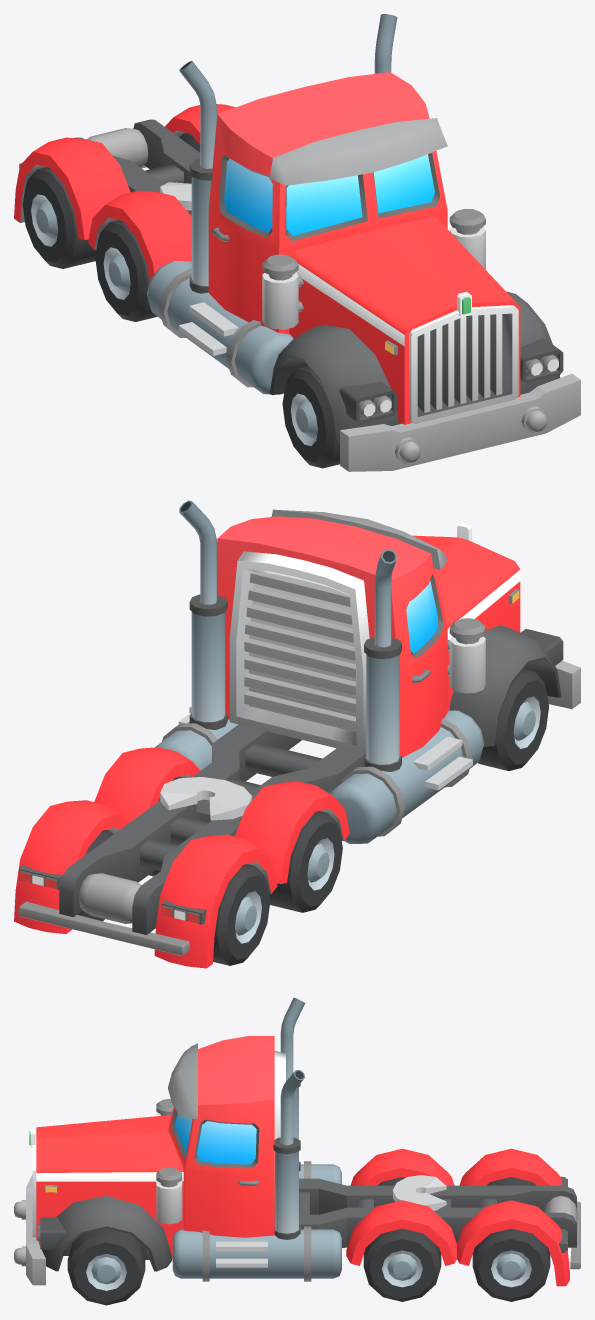
Rendered from Truck_03.glb.
The picture shows the model from 3 angles, top to bottom: view 1: azimuth 30°, elevation 25°; view 2: azimuth 150°, elevation 25°; view 3: azimuth 270°, elevation 25°; orthographic projection. The views are drawn at different scales.
Visible parts, largest first — view 1: Truck_03, Wheel_261, Wheel_260, Wheel_259; view 2: Truck_03, Wheel_260, Wheel_259, Wheel_261; view 3: Truck_03, Wheel_262, Wheel_263, Wheel_264.
Boxes of the visible parts, box(x1,y1,x2,y2) form: Truck_03: box(14, 14, 580, 471); Wheel_261: box(22, 167, 96, 268); Wheel_260: box(95, 220, 157, 321); Wheel_259: box(282, 366, 339, 468); Truck_03: box(14, 500, 580, 968); Wheel_260: box(269, 811, 342, 912); Wheel_259: box(478, 668, 548, 770); Wheel_261: box(213, 864, 270, 965); Truck_03: box(14, 997, 580, 1286); Wheel_262: box(67, 1228, 145, 1305); Wheel_263: box(363, 1228, 441, 1301); Wheel_264: box(472, 1228, 550, 1301).
Size of the model in its own units: 2.99 by 3.4 by 7.51.
2 materials, 2 textured.
